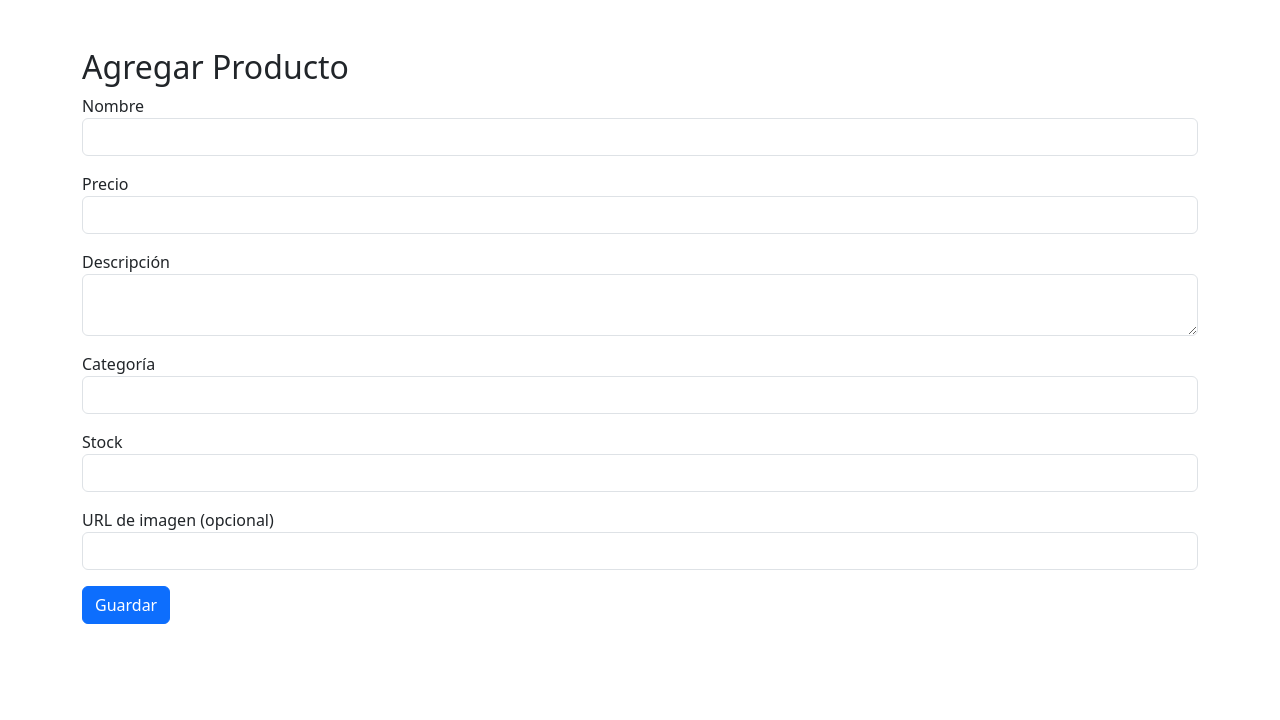
Test: muestra error si el precio es 0
In the field labelled "Nombre": [640, 137] box [82,118,1198,156], type "Vox AC30"
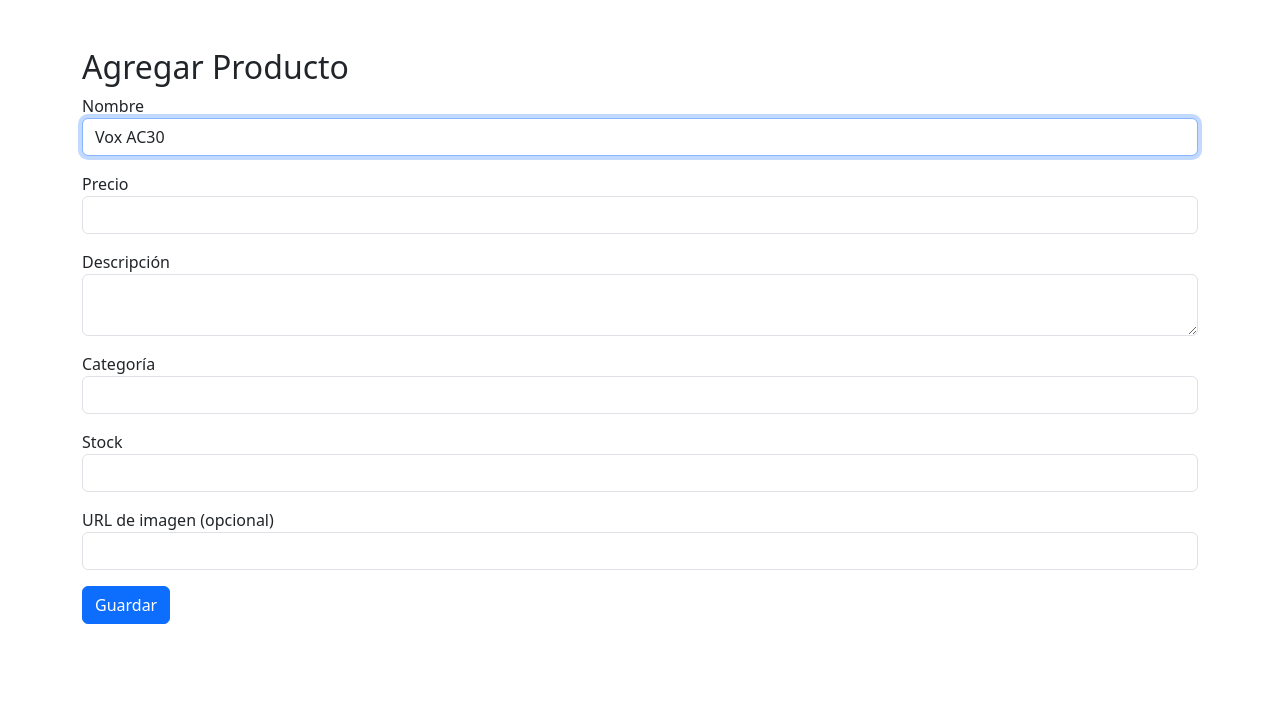
In the number field labelled "Precio": [640, 215] box [82,196,1198,234], type "0"
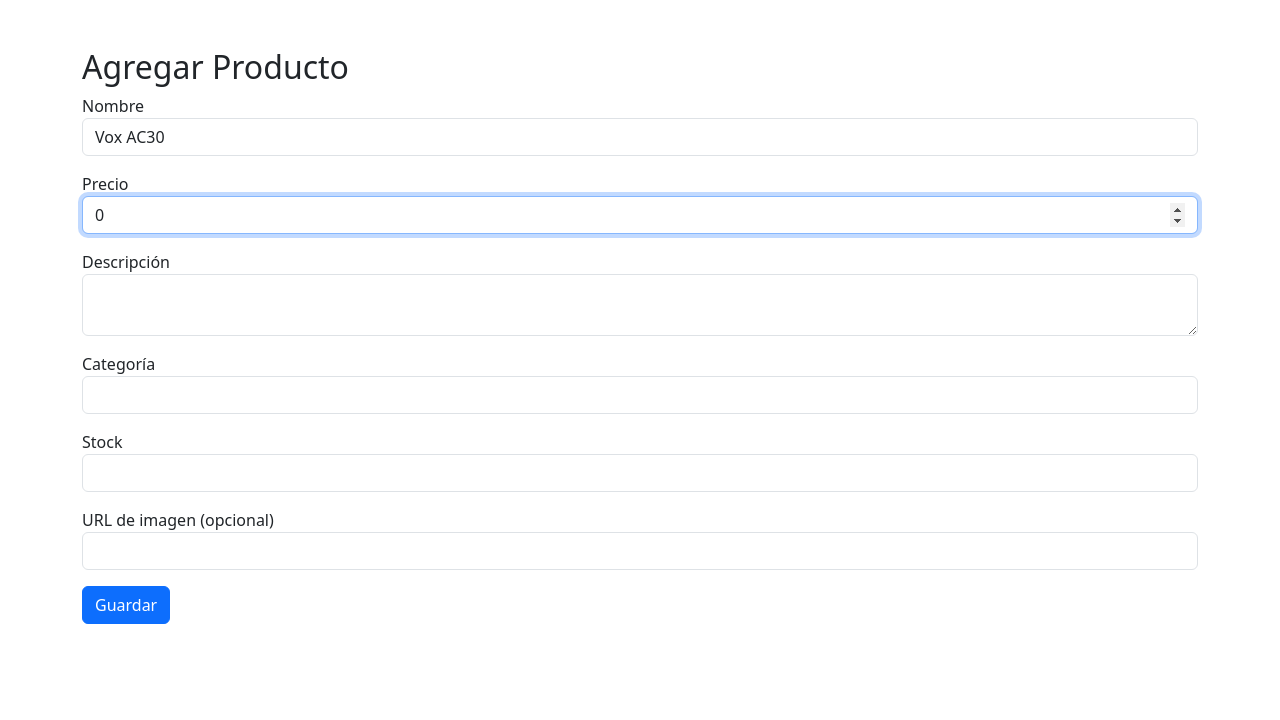
Click the button "Guardar": [126, 605] box [82,586,170,624]
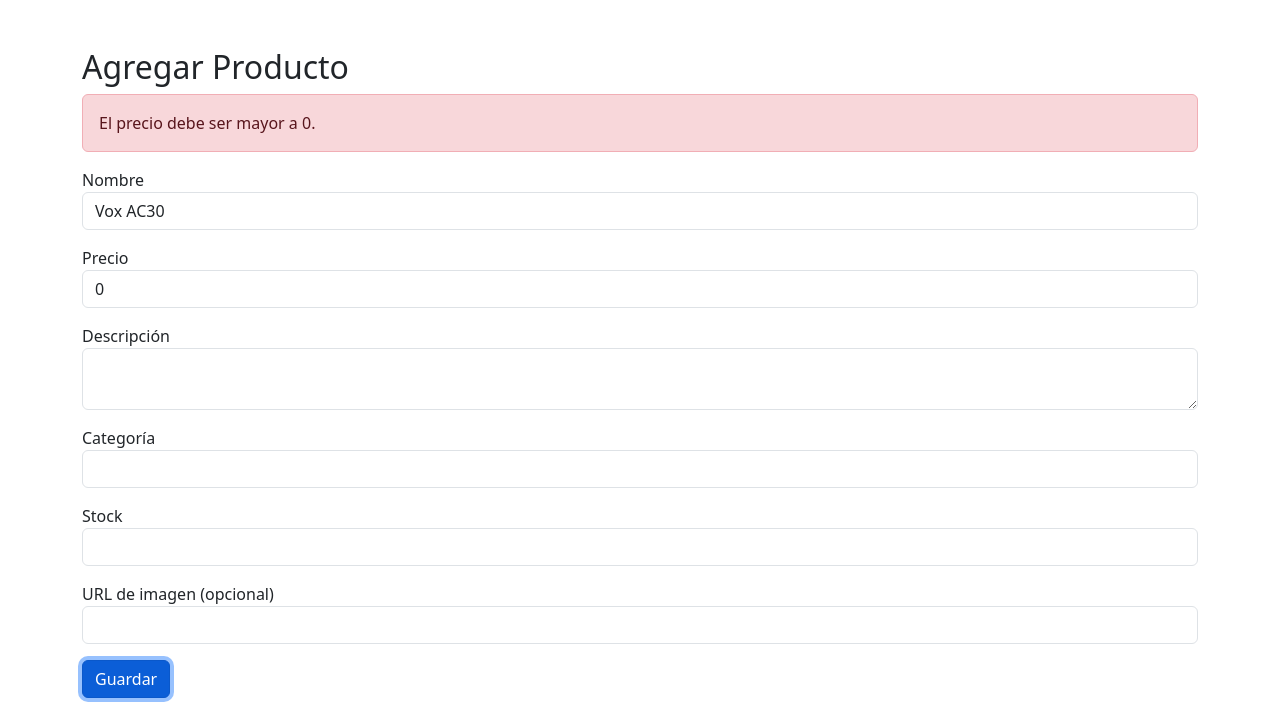
Result: the text "El precio debe ser mayor a 0." is shown at [82,94,1198,152]
